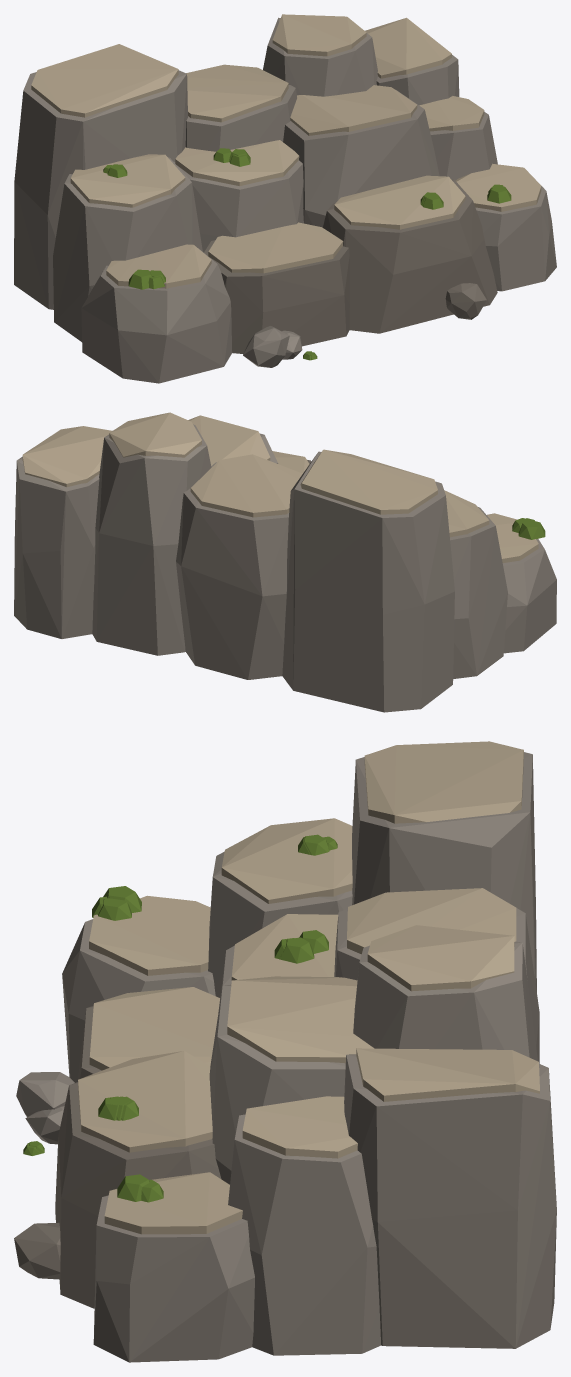
The model's file is Cliff_B.fbx.
The picture shows the model from 3 angles, top to bottom: view 1: azimuth 30°, elevation 25°; view 2: azimuth 150°, elevation 25°; view 3: azimuth 270°, elevation 25°; orthographic projection. The views are drawn at different scales.
Parts seen in each view (by area): view 1: Cliff, RockLight, CliffDark, Moss; view 2: Cliff, RockLight, Moss; view 3: Cliff, RockLight, CliffDark, Moss.
Boxes of the visible parts, x1=… form: Cliff: x1=14, y1=17, x2=556, y2=383; RockLight: x1=31, y1=14, x2=541, y2=288; CliffDark: x1=204, y1=179, x2=497, y2=353; Moss: x1=103, y1=148, x2=511, y2=360; Cliff: x1=14, y1=424, x2=556, y2=712; RockLight: x1=22, y1=412, x2=538, y2=563; Moss: x1=512, y1=518, x2=545, y2=539; Cliff: x1=16, y1=752, x2=556, y2=1362; RockLight: x1=78, y1=741, x2=539, y2=1234; CliffDark: x1=14, y1=1006, x2=221, y2=1308; Moss: x1=23, y1=834, x2=337, y2=1202.
Bounding box in the file's own units: 20.55 × 9.15 × 13.9.
